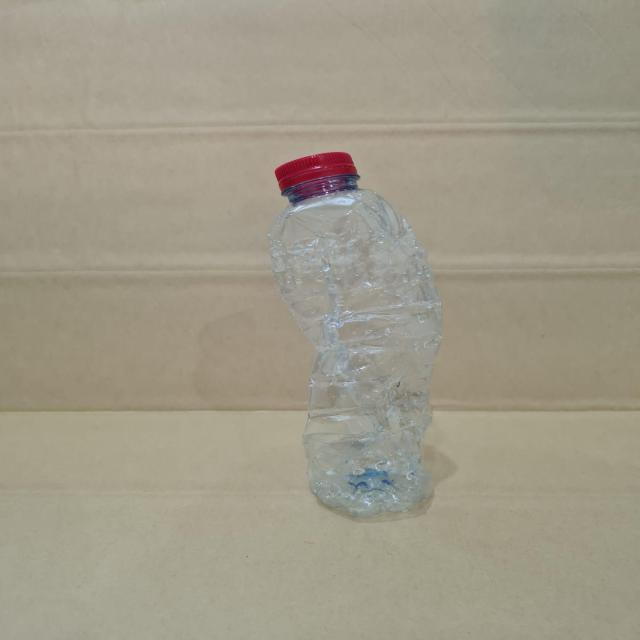bottle: (263, 145, 460, 526)
